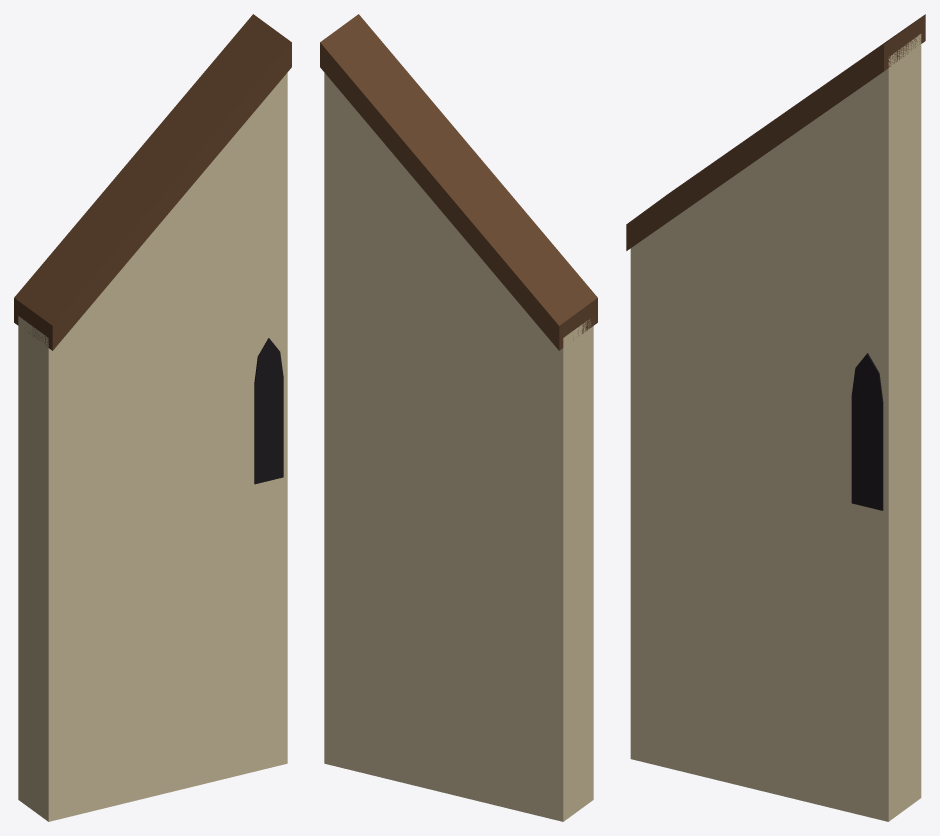
Rendered from Gable2Slit.fbx.
3 renders of one model, left to right at view 1: azimuth 30°, elevation 25°; view 2: azimuth 150°, elevation 25°; view 3: azimuth 330°, elevation 25°, orthographic. The views are drawn at different scales.
Visible parts, largest first — view 1: Kit_Gable2Slit; view 2: Kit_Gable2Slit; view 3: Kit_Gable2Slit.
Part boxes in pixels (box(x1,y1,x2,y2)): Kit_Gable2Slit: box(14, 14, 291, 821); Kit_Gable2Slit: box(320, 14, 597, 821); Kit_Gable2Slit: box(626, 14, 925, 821).
Size of the model in its own units: 1 by 2.89 by 0.28.
